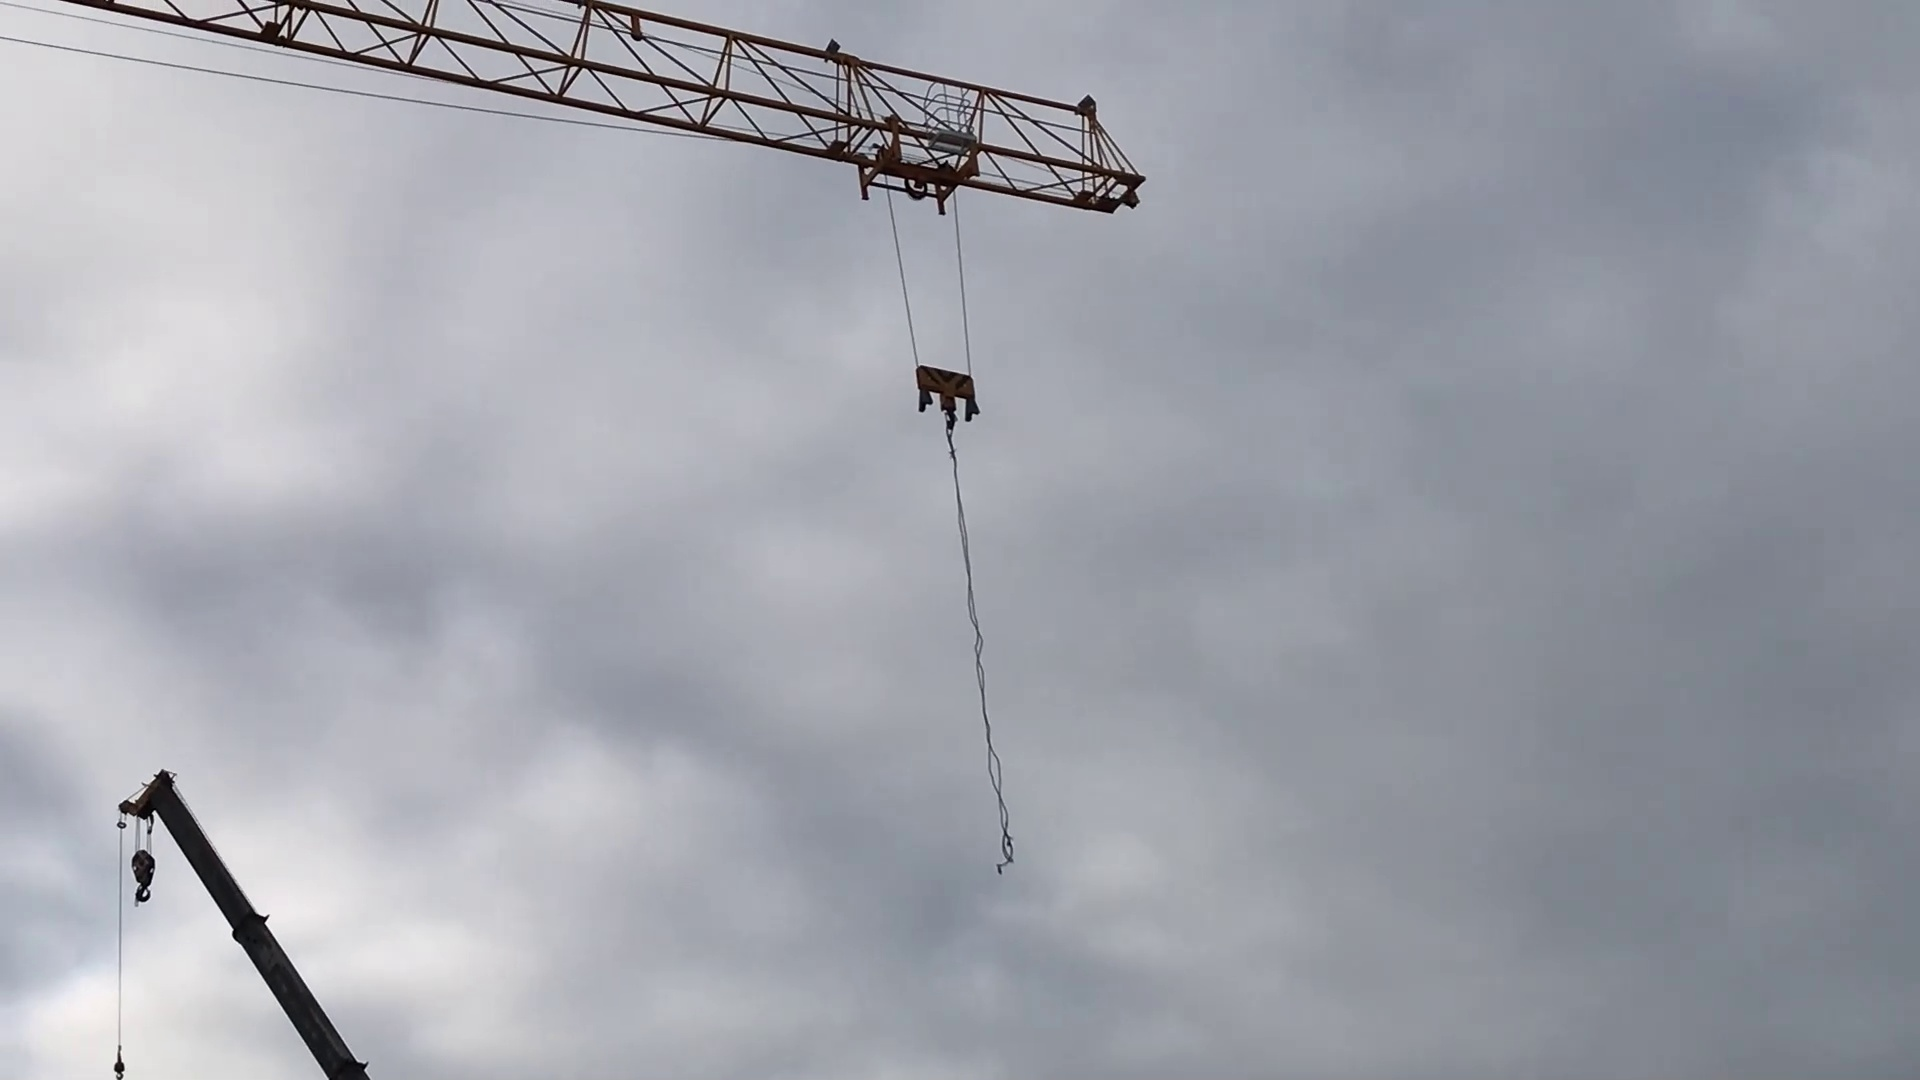hook: (907, 357, 992, 429), (124, 849, 167, 906)
